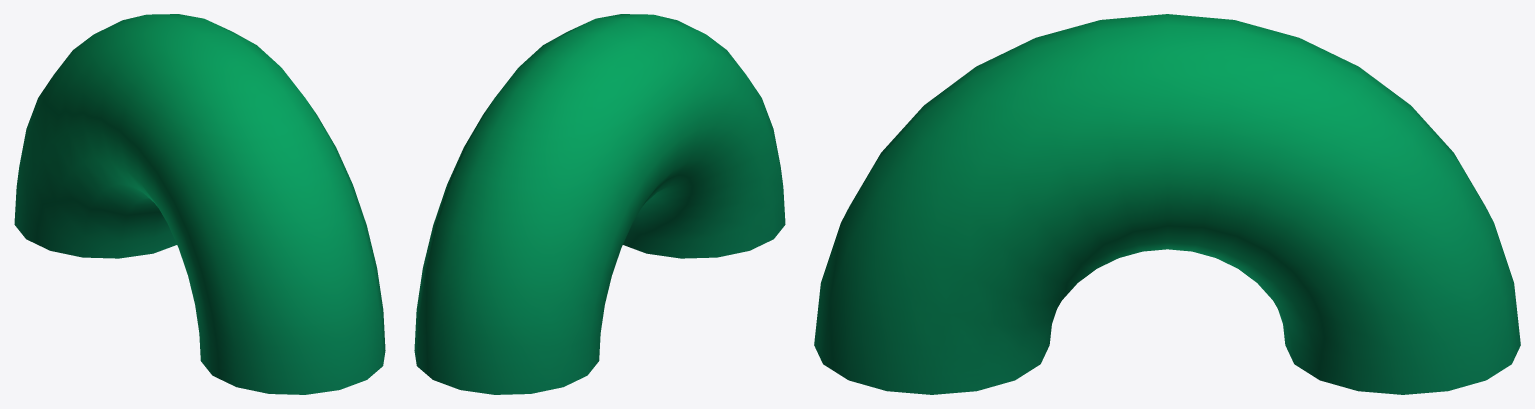
The model's file is pipe_180_A_green.glb.
3 views of the same model, side by side, from view 1: azimuth 30°, elevation 25°; view 2: azimuth 150°, elevation 25°; view 3: azimuth 270°, elevation 25° (orthographic). The views are drawn at different scales.
Parts seen in each view (by area): view 1: pipe_180_A_green; view 2: pipe_180_A_green; view 3: pipe_180_A_green.
Part boxes in pixels (x1,y1,x2,y2): pipe_180_A_green: (14,14,385,394); pipe_180_A_green: (414,14,785,394); pipe_180_A_green: (814,14,1520,394).
Size of the model in its own units: 2 by 3 by 6.
1 material, 1 textured.
